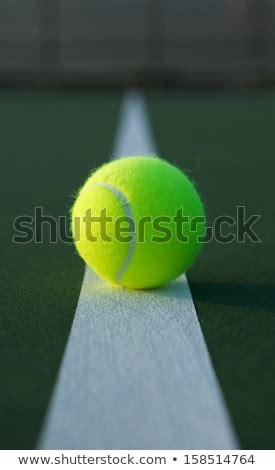tennis_ball: (71, 155, 205, 289)
